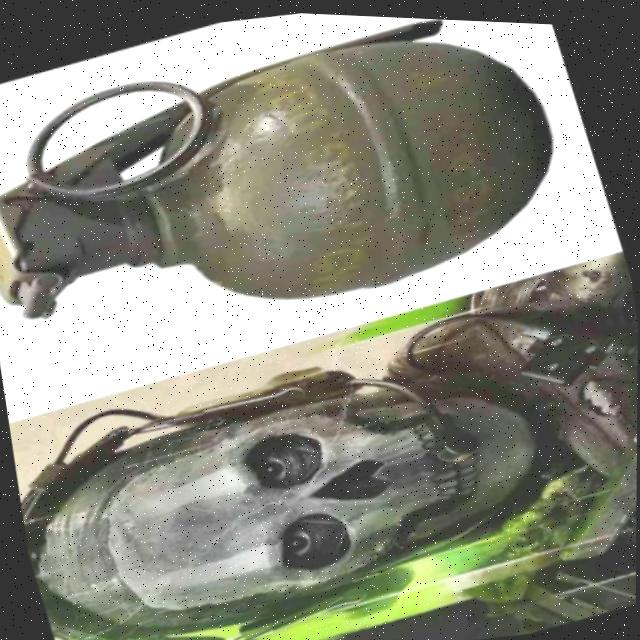grenade: (0, 0, 596, 400)
